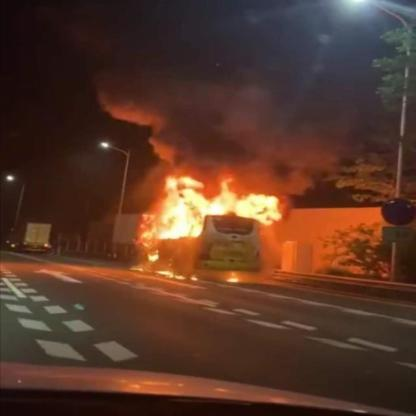fire: (128, 170, 285, 288)
other: (2, 166, 34, 194), (90, 129, 111, 151)
smoke: (54, 9, 339, 180)
